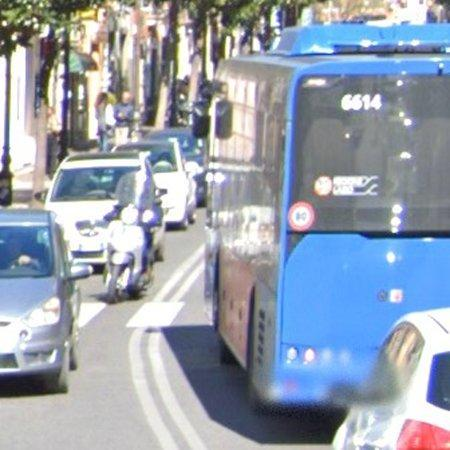buses: (208, 25, 450, 409)
